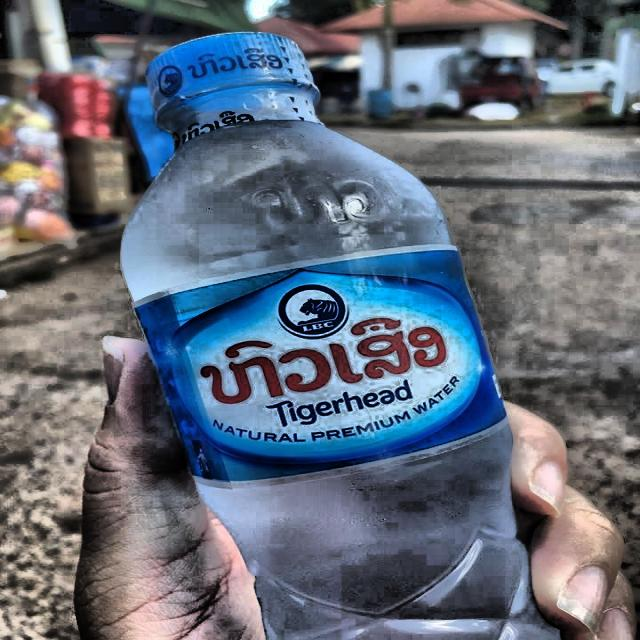Bottles: (82, 25, 618, 640)
